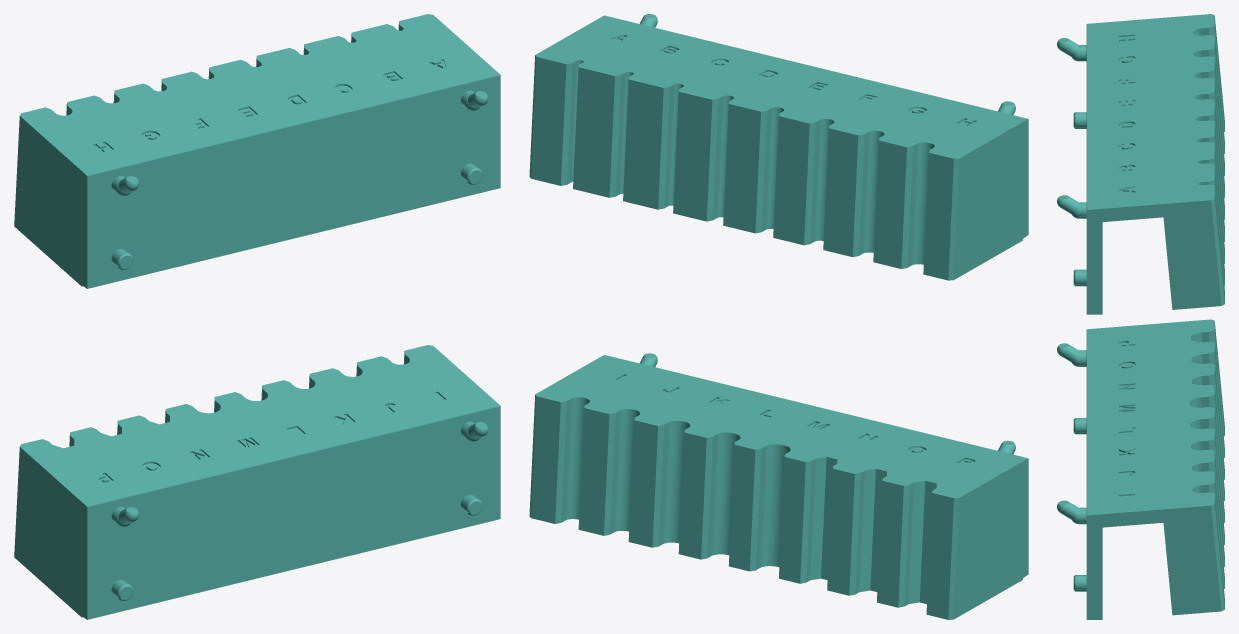
Rendered from part-ms01-shaft-fit-sampler-20x10x3-recoverable__v3__installed.glb.
The picture shows the model from 3 angles, left to right: view 1: azimuth 30°, elevation 25°; view 2: azimuth 150°, elevation 25°; view 3: azimuth 270°, elevation 25°; orthographic projection. The views are drawn at different scales.
Parts seen in each view (by area): view 1: Actual holder mesh, Actual holder mesh.001; view 2: Actual holder mesh, Actual holder mesh.001; view 3: Actual holder mesh, Actual holder mesh.001.
Part boxes in pixels (bbox=[...]): Actual holder mesh: bbox=[14, 14, 500, 288]; Actual holder mesh.001: bbox=[14, 345, 500, 619]; Actual holder mesh: bbox=[529, 14, 1028, 280]; Actual holder mesh.001: bbox=[529, 353, 1028, 619]; Actual holder mesh: bbox=[1057, 14, 1224, 314]; Actual holder mesh.001: bbox=[1057, 319, 1224, 619].
Bounding box in the file's own units: 0.1504 × 0.1587 × 0.0573.
